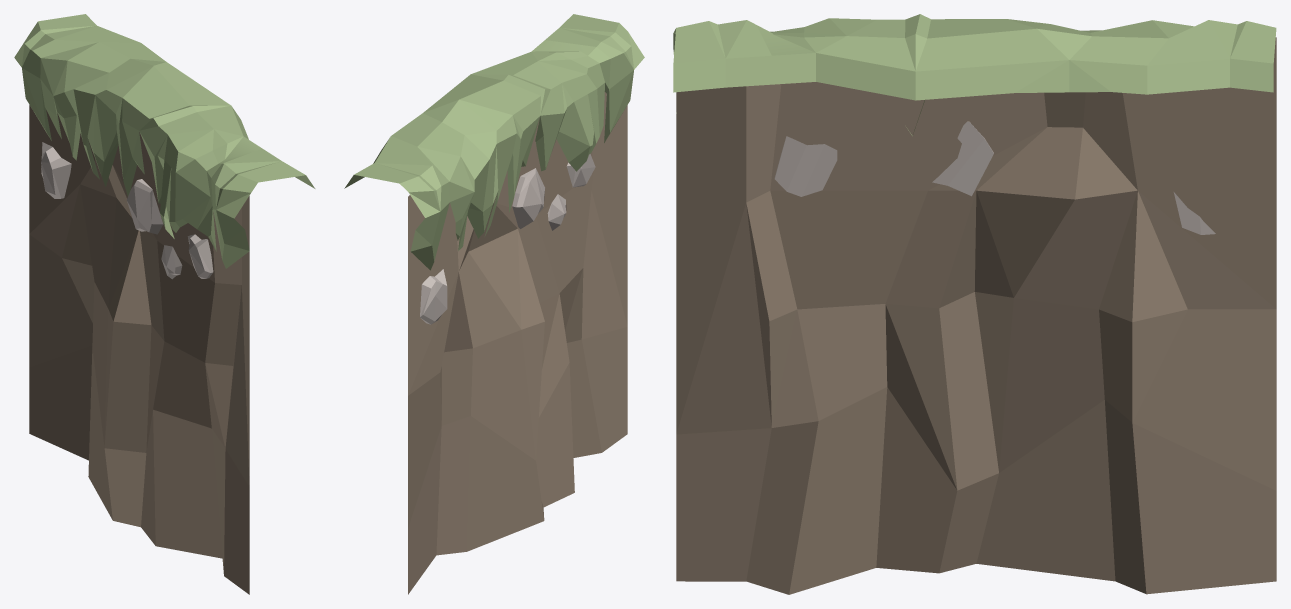
The model's file is ER_Terrain_1x1_Grass_001_A3.fbx.
3 views of the same model, side by side, from view 1: azimuth 30°, elevation 25°; view 2: azimuth 150°, elevation 25°; view 3: azimuth 270°, elevation 25° (orthographic). The views are drawn at different scales.
Parts seen in each view (by area): view 1: ER_Terrain_1x1_Grass_001_A3; view 2: ER_Terrain_1x1_Grass_001_A3; view 3: ER_Terrain_1x1_Grass_001_A3.
Boxes of the visible parts, x1,y1,x2,y2 form: ER_Terrain_1x1_Grass_001_A3: (14, 14, 315, 594); ER_Terrain_1x1_Grass_001_A3: (344, 14, 644, 594); ER_Terrain_1x1_Grass_001_A3: (673, 14, 1276, 594).
Size of the model in its own units: 0.2776 by 1.06 by 1.
